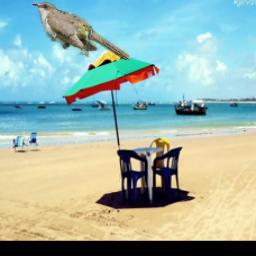Cuckoo: (34, 1, 131, 60)
